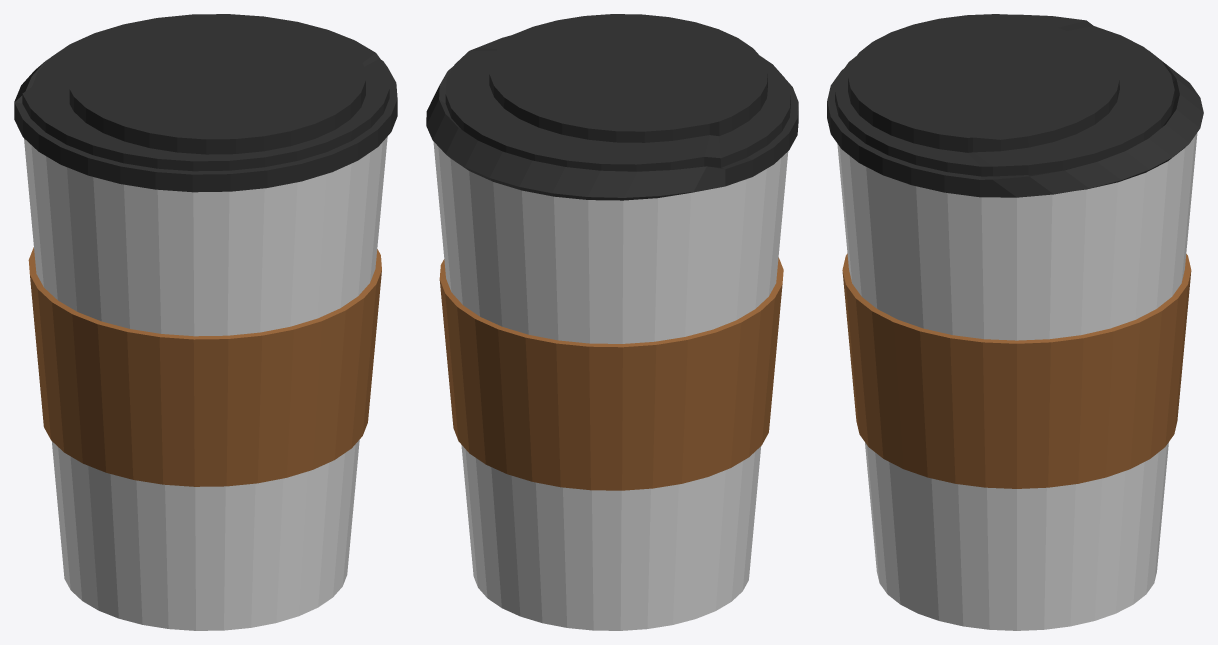
Rendered from VasoCafe.fbx.
3 renders of one model, left to right at view 1: azimuth 30°, elevation 25°; view 2: azimuth 150°, elevation 25°; view 3: azimuth 270°, elevation 25°, orthographic. The views are drawn at different scales.
Parts seen in each view (by area): view 1: Cylinder.001, Cylinder, Cylinder.002; view 2: Cylinder.001, Cylinder, Cylinder.002; view 3: Cylinder.001, Cylinder, Cylinder.002.
Part boxes in pixels (bbox=[...]): Cylinder.001: bbox=[24, 137, 387, 630]; Cylinder: bbox=[14, 14, 397, 192]; Cylinder.002: bbox=[28, 247, 381, 486]; Cylinder.001: bbox=[433, 141, 788, 630]; Cylinder: bbox=[426, 14, 798, 200]; Cylinder.002: bbox=[439, 257, 783, 490]; Cylinder.001: bbox=[837, 133, 1197, 630]; Cylinder: bbox=[827, 14, 1203, 197]; Cylinder.002: bbox=[842, 253, 1191, 488].
Size of the model in its own units: 271 by 391 by 269.
